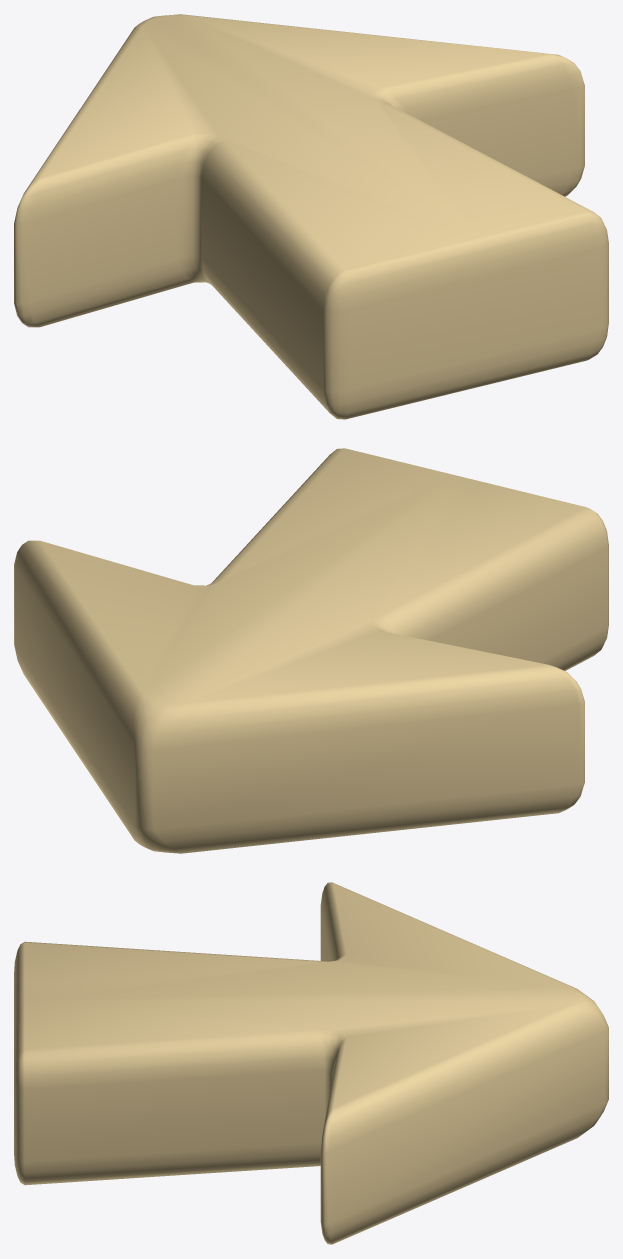
The model's file is PlayerArrow.fbx.
3 renders of one model, top to bottom at view 1: azimuth 30°, elevation 25°; view 2: azimuth 150°, elevation 25°; view 3: azimuth 270°, elevation 25°, orthographic. The views are drawn at different scales.
Parts seen in each view (by area): view 1: Arrow; view 2: Arrow; view 3: Arrow.
Part boxes in pixels (<box>): Arrow: <box>14,14,608,419</box>; Arrow: <box>14,448,608,853</box>; Arrow: <box>14,882,608,1244</box>.
Bounding box in the file's own units: 100 × 25 × 100.
